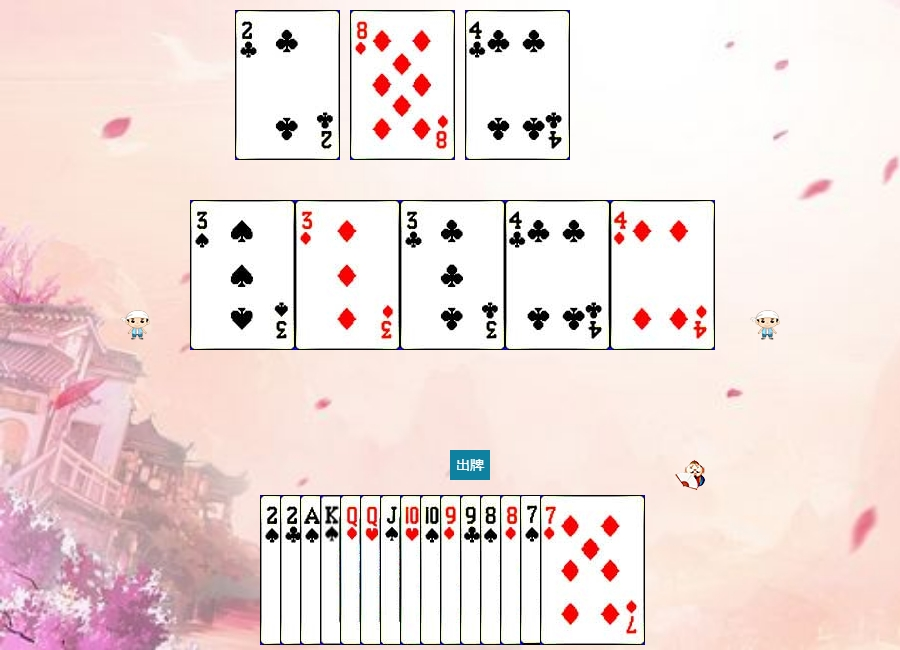10~3: (400, 495, 505, 645)
10~4: (420, 495, 525, 645)
11~4: (380, 495, 485, 645)
12~1: (340, 495, 445, 645)
12~3: (360, 495, 465, 645)
13~4: (320, 495, 425, 645)
14~4: (300, 495, 405, 645)
15~2: (235, 10, 340, 160), (280, 495, 385, 645)
15~4: (260, 495, 365, 645)
3~1: (295, 200, 400, 350)
3~2: (400, 200, 505, 350)
3~4: (190, 200, 295, 350)
4~1: (610, 200, 715, 350)
4~2: (465, 10, 570, 160), (505, 200, 610, 350)
7~1: (540, 495, 645, 645)
7~4: (520, 495, 625, 645)
8~1: (350, 10, 455, 160), (500, 495, 605, 645)
8~4: (480, 495, 585, 645)
9~1: (440, 495, 545, 645)
9~2: (460, 495, 565, 645)
